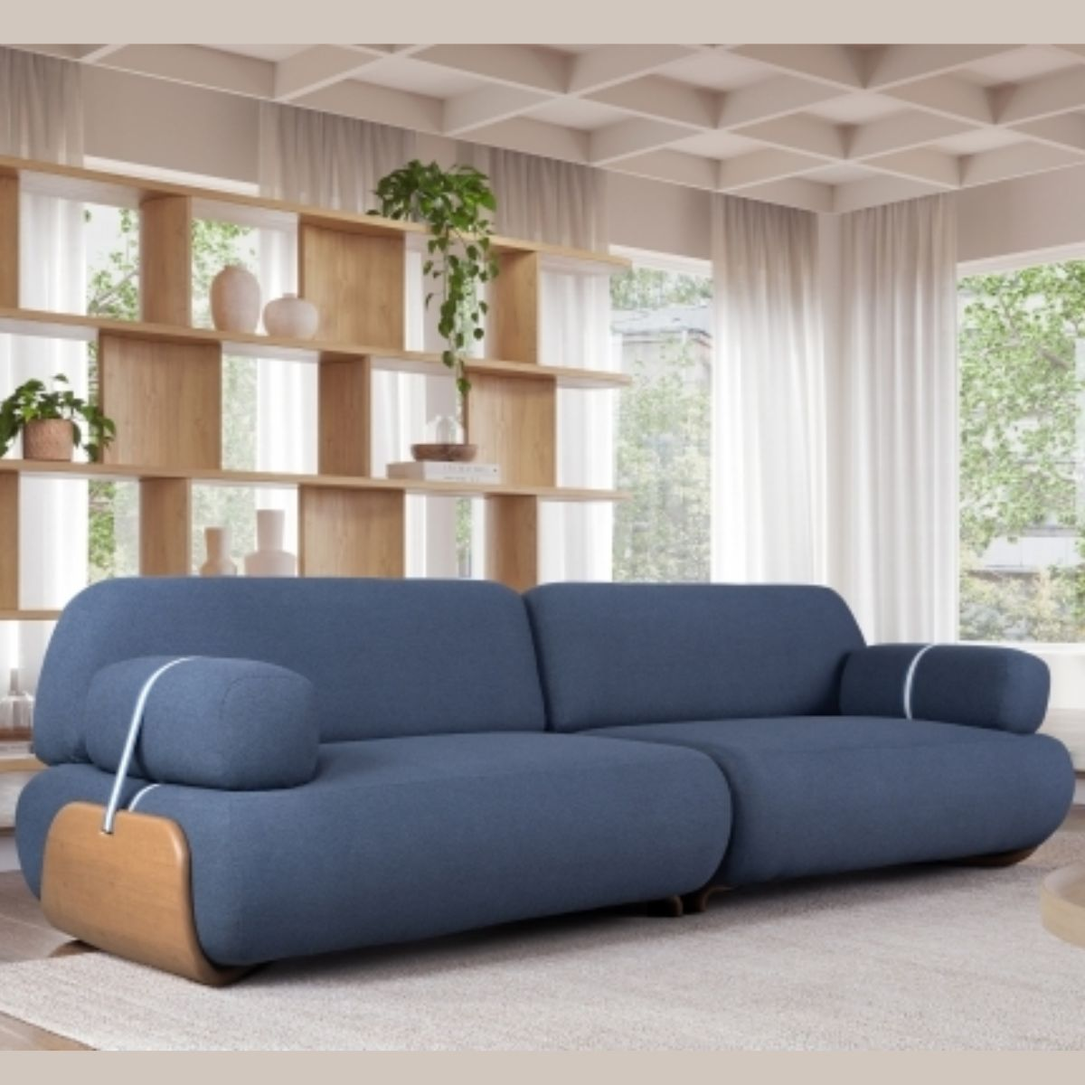3seatersofa: (16, 578, 1074, 982)
backrest: (39, 578, 863, 762)
leftarmrest: (839, 644, 1050, 733)
leg: (645, 884, 731, 917), (954, 848, 1036, 868), (210, 965, 263, 985), (53, 941, 90, 957)
rightarmrest: (84, 657, 317, 790)
seat: (14, 710, 1074, 983)
